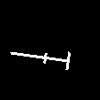double_crochet: (11, 52, 69, 69)
